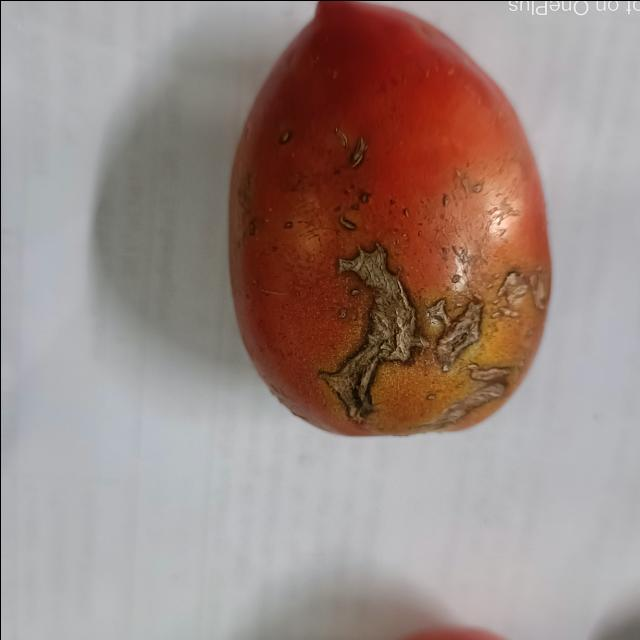tomato_cracking: (309, 238, 434, 435)
